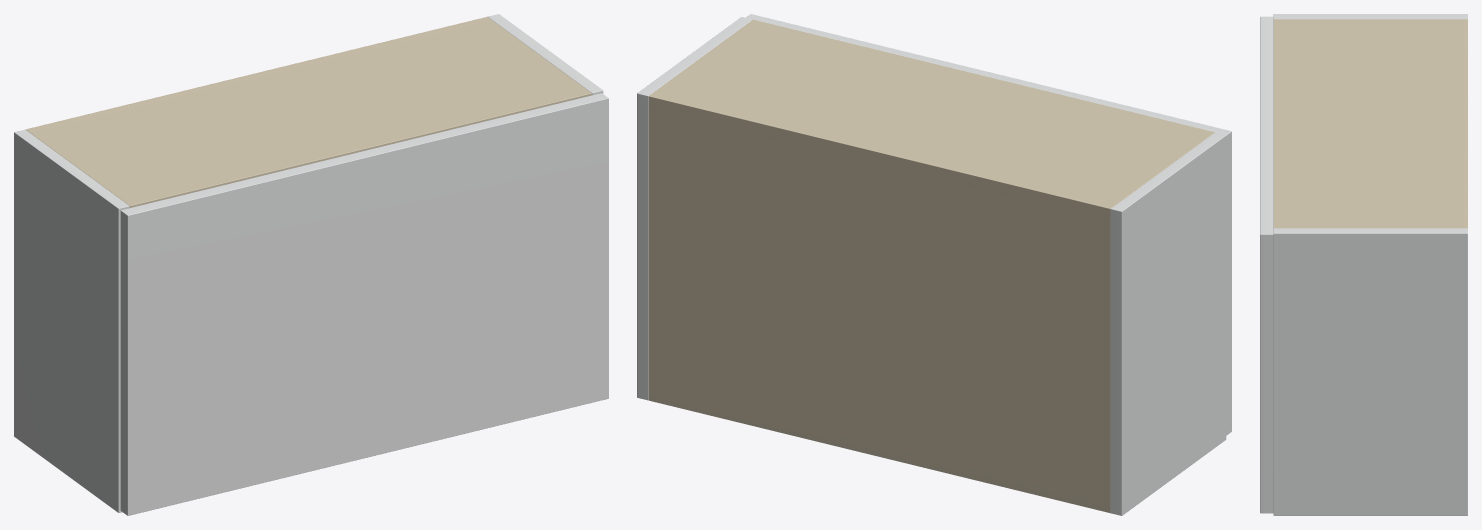
The model's file is oppein-ply-pgw-wsl3018.glb.
3 views of the same model, side by side, from view 1: azimuth 30°, elevation 25°; view 2: azimuth 150°, elevation 25°; view 3: azimuth 270°, elevation 25° (orthographic). The views are drawn at different scales.
Parts seen in each view (by area): view 1: Door, Cabinet top, Cabinet side, Cabinet back, Cabinet side.001; view 2: Cabinet back, Cabinet top, Cabinet side, Cabinet side.001, Door, Cabinet bottom; view 3: Cabinet side.001, Cabinet top, Door, Cabinet back, Cabinet side.
Part boxes in pixels (x1,y1,x2,y2): Door: (120,93,608,515); Cabinet top: (26,17,591,207); Cabinet side: (14,129,129,512); Cabinet back: (25,16,490,132); Cabinet side.001: (488,14,603,95); Cabinet back: (648,93,1114,512); Cabinet top: (649,19,1214,218); Cabinet side: (1110,132,1226,515); Cabinet side.001: (637,17,752,400); Door: (746,14,1231,435); Cabinet bottom: (648,390,1110,512); Cabinet side.001: (1273,228,1467,515); Cabinet top: (1273,19,1467,228); Door: (1260,16,1273,513); Cabinet back: (1460,19,1467,228); Cabinet side: (1273,14,1467,19).
Size of the model in its own units: 0.762 by 0.4572 by 0.3048.
